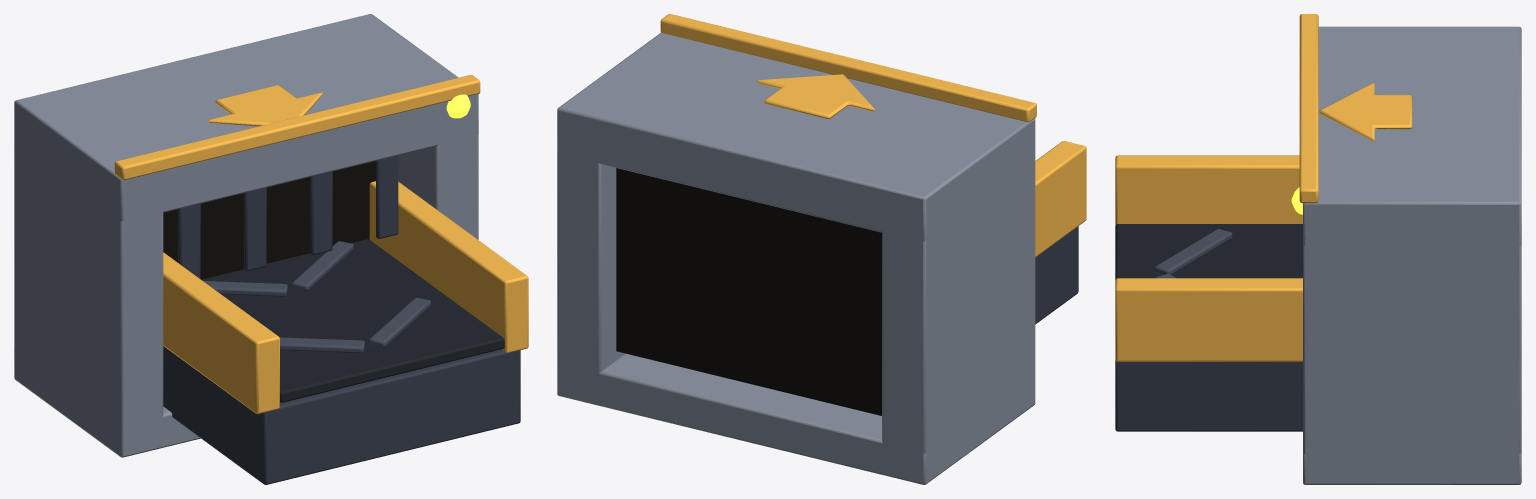
The model's file is anschluss_ausgang.fbx.
3 renders of one model, left to right at view 1: azimuth 30°, elevation 25°; view 2: azimuth 150°, elevation 25°; view 3: azimuth 270°, elevation 25°, orthographic. The views are drawn at different scales.
Visible parts, largest first — view 1: anschluss_ausgang_Koerper; view 2: anschluss_ausgang_Koerper; view 3: anschluss_ausgang_Koerper.
Part boxes in pixels (left/top/right/bottom): anschluss_ausgang_Koerper: left=14, top=14, right=528, bottom=484; anschluss_ausgang_Koerper: left=557, top=14, right=1086, bottom=484; anschluss_ausgang_Koerper: left=1115, top=14, right=1521, bottom=484.
Bounding box in the file's own units: 1.34 × 1.04 × 1.3.
